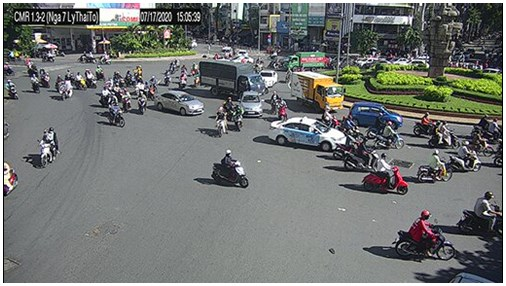xe_hoi: (269, 116, 347, 153), (349, 101, 402, 128), (155, 91, 205, 116), (241, 90, 263, 117), (259, 69, 278, 88)
xe_may: (394, 210, 456, 262), (458, 192, 504, 237), (362, 155, 409, 195), (344, 138, 388, 171), (211, 150, 247, 187), (416, 151, 452, 184), (447, 140, 480, 173), (333, 130, 368, 160), (427, 121, 461, 151), (375, 121, 404, 151), (40, 127, 60, 169), (473, 114, 501, 142), (413, 112, 442, 136), (342, 113, 365, 137), (108, 100, 126, 129), (317, 107, 338, 127), (217, 106, 228, 138), (232, 103, 244, 132), (84, 67, 97, 91), (60, 80, 74, 102), (97, 86, 112, 106), (223, 96, 235, 121), (72, 72, 87, 91), (112, 71, 126, 90), (7, 79, 19, 100), (40, 67, 51, 89), (54, 75, 67, 93), (148, 74, 157, 100), (31, 73, 42, 94), (64, 69, 76, 87), (138, 91, 147, 115), (271, 92, 280, 116), (107, 90, 118, 109), (125, 68, 136, 87), (121, 87, 130, 110), (97, 51, 111, 65), (278, 97, 286, 121), (42, 51, 56, 64), (82, 51, 96, 64), (95, 65, 105, 83), (135, 63, 144, 82), (177, 72, 187, 89), (163, 70, 171, 85), (168, 60, 177, 72), (190, 62, 197, 75)
xe_tai: (200, 61, 265, 98), (290, 71, 344, 109), (284, 52, 326, 71)
